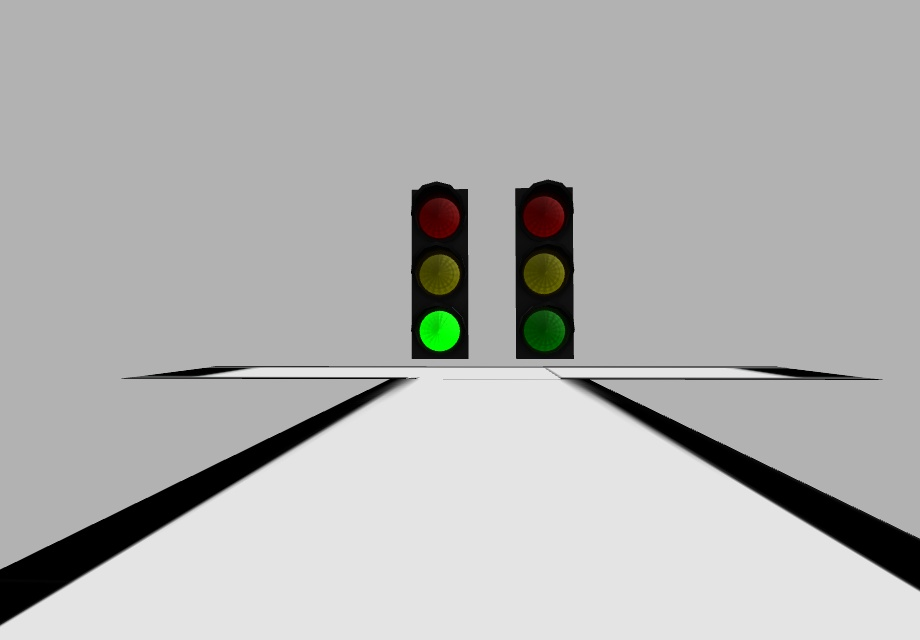green_off: (524, 309, 561, 350)
green_on: (417, 307, 464, 354)
